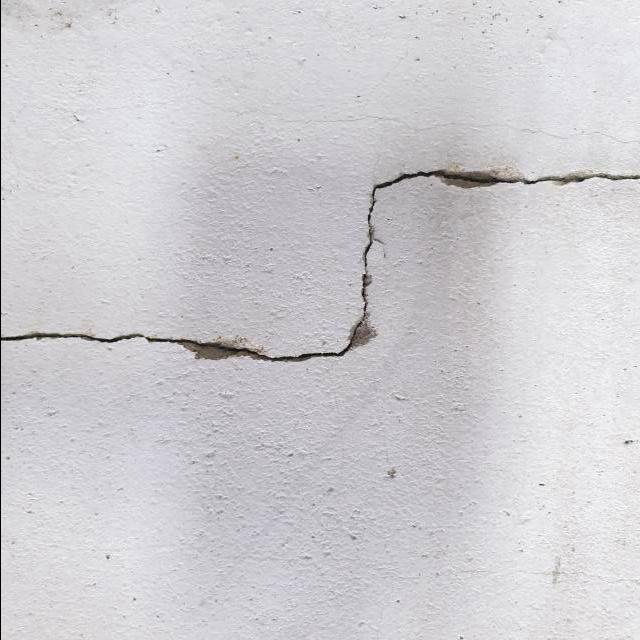SurfaceCrack: (1, 122, 640, 402)
